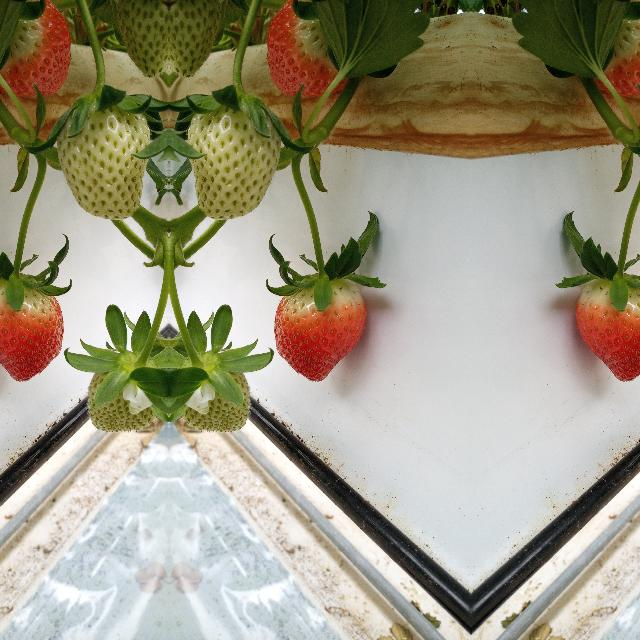Health_100: (272, 278, 366, 382), (259, 8, 367, 98), (0, 8, 77, 97), (575, 278, 640, 382), (0, 278, 64, 382), (574, 8, 640, 97)
Health_25: (55, 92, 148, 235), (188, 92, 280, 235), (168, 7, 232, 77), (104, 7, 168, 77)
